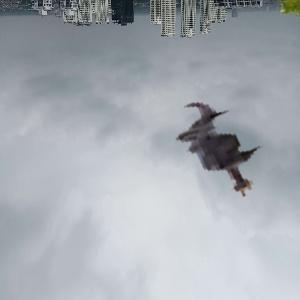drone: (165, 87, 292, 214)
